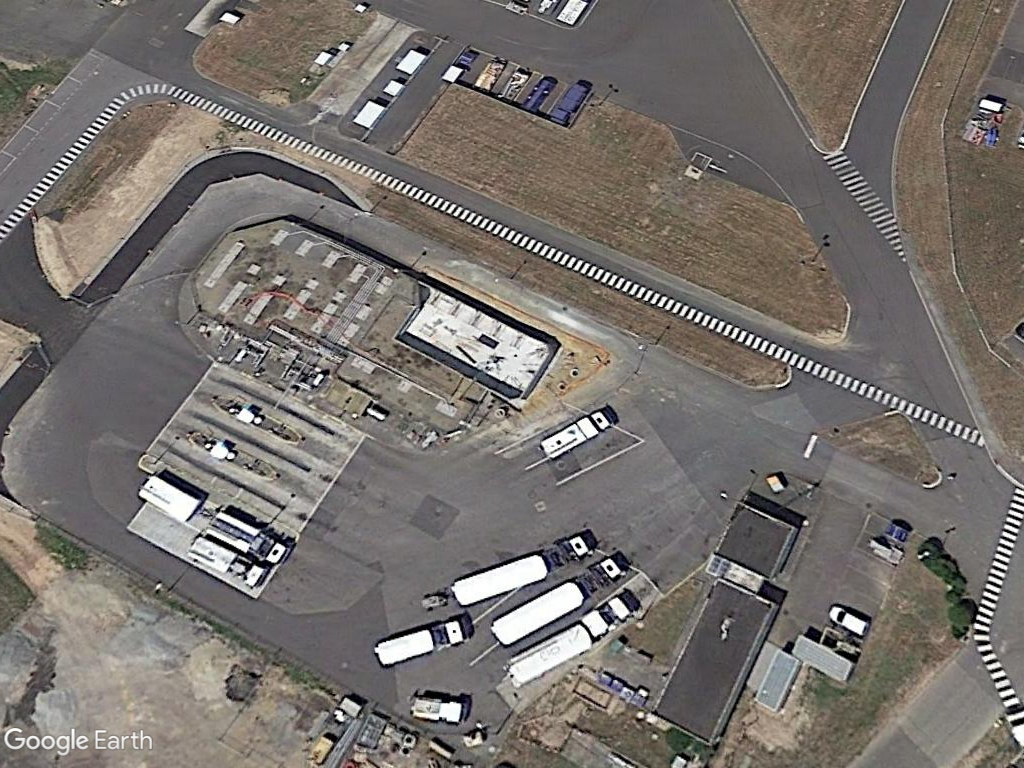truck: (486, 548, 631, 664), (444, 529, 590, 611), (371, 612, 471, 674), (537, 405, 612, 466)
